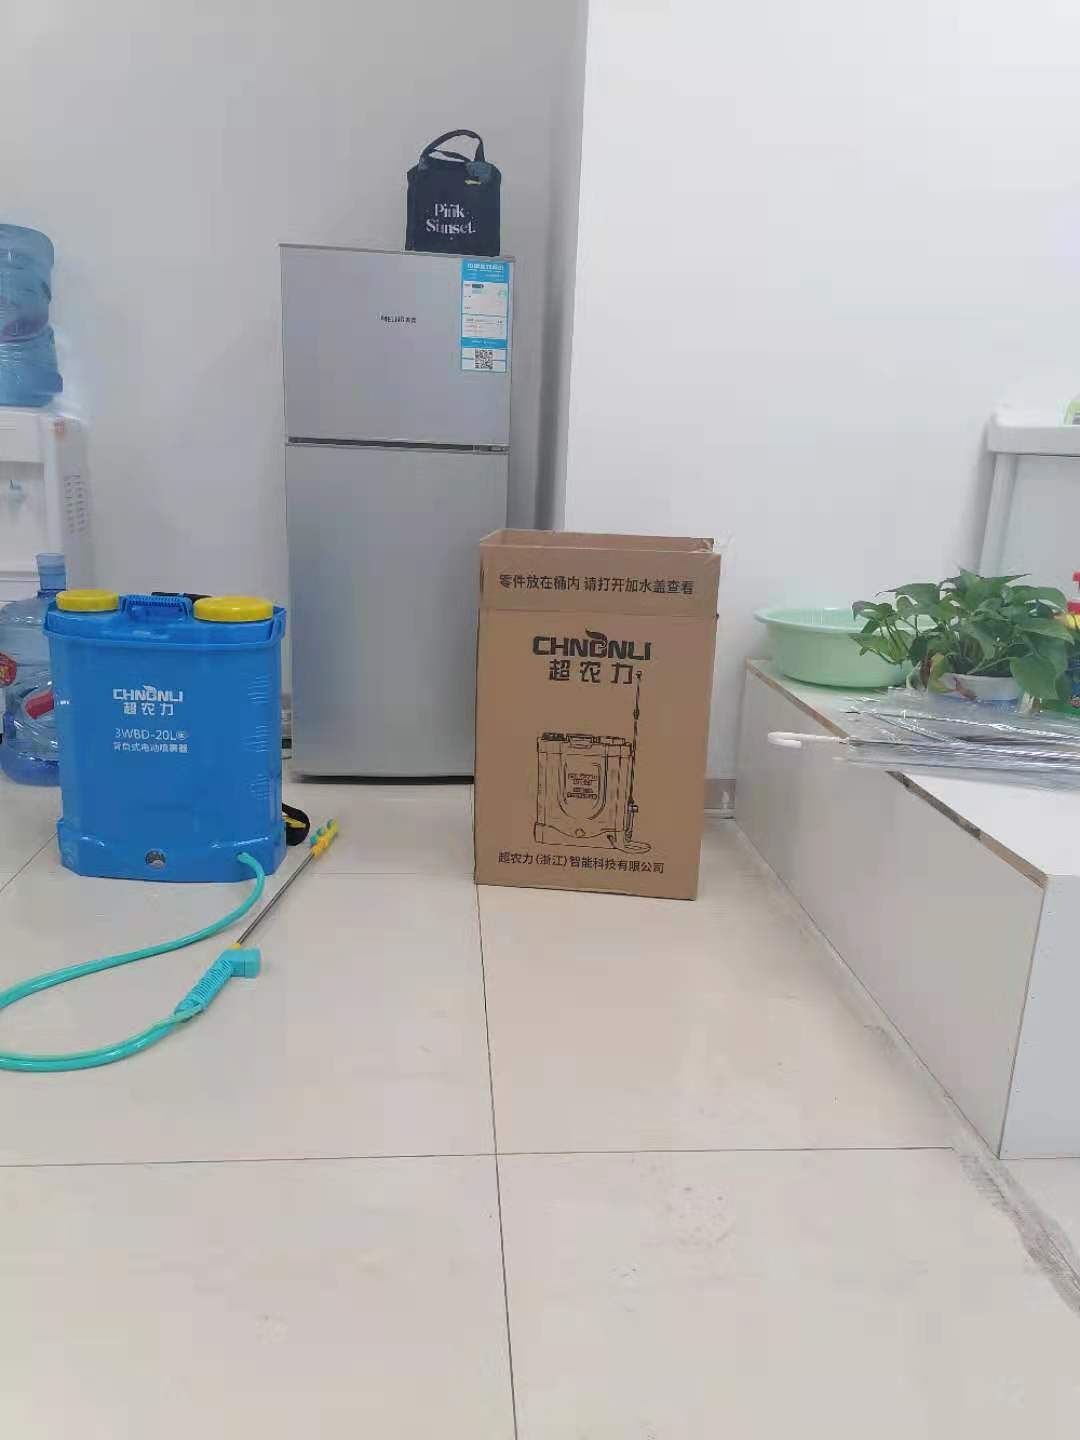berrl: (39, 578, 303, 899)
